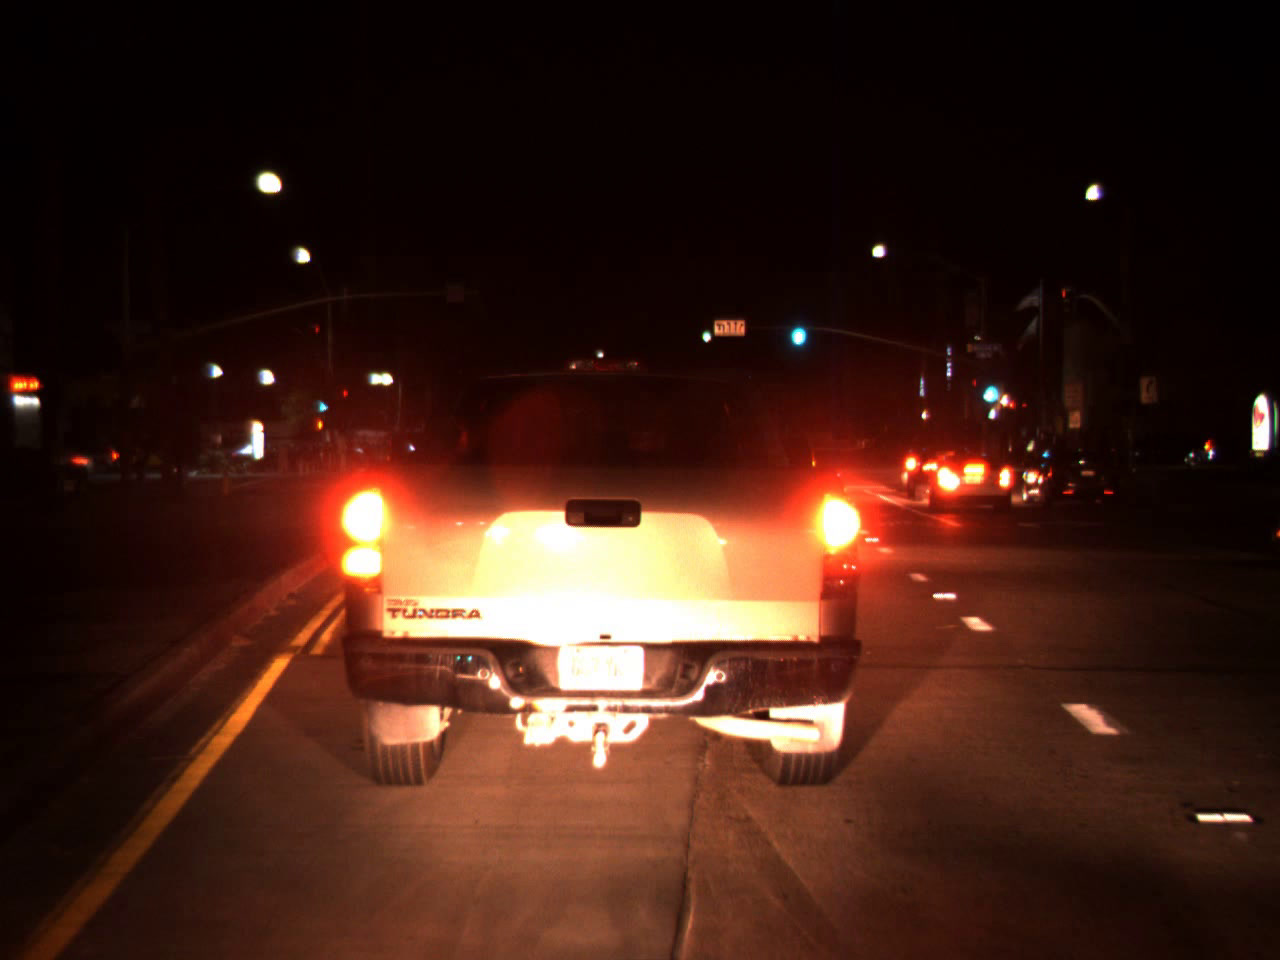go: (785, 306, 808, 351), (980, 366, 1001, 408), (697, 316, 713, 346), (317, 393, 327, 414)
